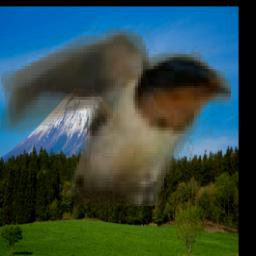Swallow: (1, 30, 231, 207)
